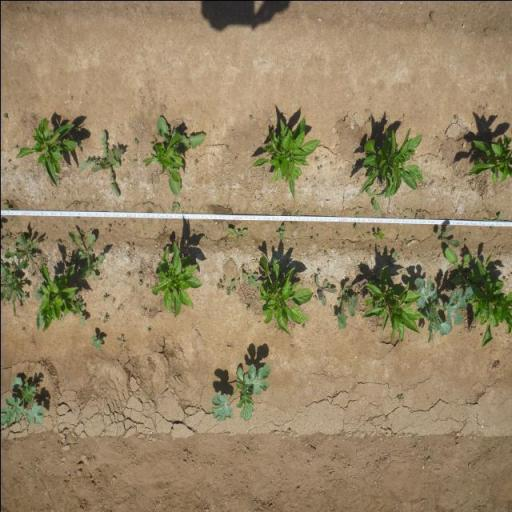plant: (250, 110, 321, 199), (352, 122, 425, 197), (360, 265, 424, 346), (14, 112, 79, 189), (257, 252, 313, 337), (468, 251, 512, 350), (150, 242, 202, 319), (37, 257, 77, 333), (467, 134, 512, 188), (143, 132, 184, 183)
weed: (412, 275, 473, 346), (208, 358, 272, 424), (78, 127, 126, 198), (0, 374, 46, 430), (442, 246, 481, 297), (4, 230, 38, 270), (0, 269, 28, 311), (336, 282, 360, 330), (65, 229, 97, 265), (76, 251, 106, 284), (313, 273, 337, 307), (435, 224, 461, 247), (366, 188, 384, 212), (240, 268, 259, 287), (226, 226, 248, 242), (89, 334, 106, 352), (382, 249, 397, 267), (274, 223, 287, 240), (78, 296, 84, 327), (226, 278, 236, 296), (115, 333, 125, 349), (372, 228, 384, 241), (170, 200, 179, 213), (2, 198, 10, 210), (216, 280, 222, 290), (10, 163, 17, 171), (100, 295, 108, 301), (452, 113, 459, 119), (414, 212, 420, 219), (353, 210, 360, 216), (102, 316, 108, 323), (316, 163, 322, 170), (133, 136, 138, 144), (352, 224, 358, 230), (136, 270, 142, 276), (300, 324, 305, 330), (2, 112, 7, 118), (248, 114, 254, 119), (314, 155, 318, 162), (193, 160, 198, 165), (146, 328, 151, 333), (222, 274, 225, 282), (138, 280, 142, 286), (245, 306, 250, 310), (296, 210, 298, 217)
